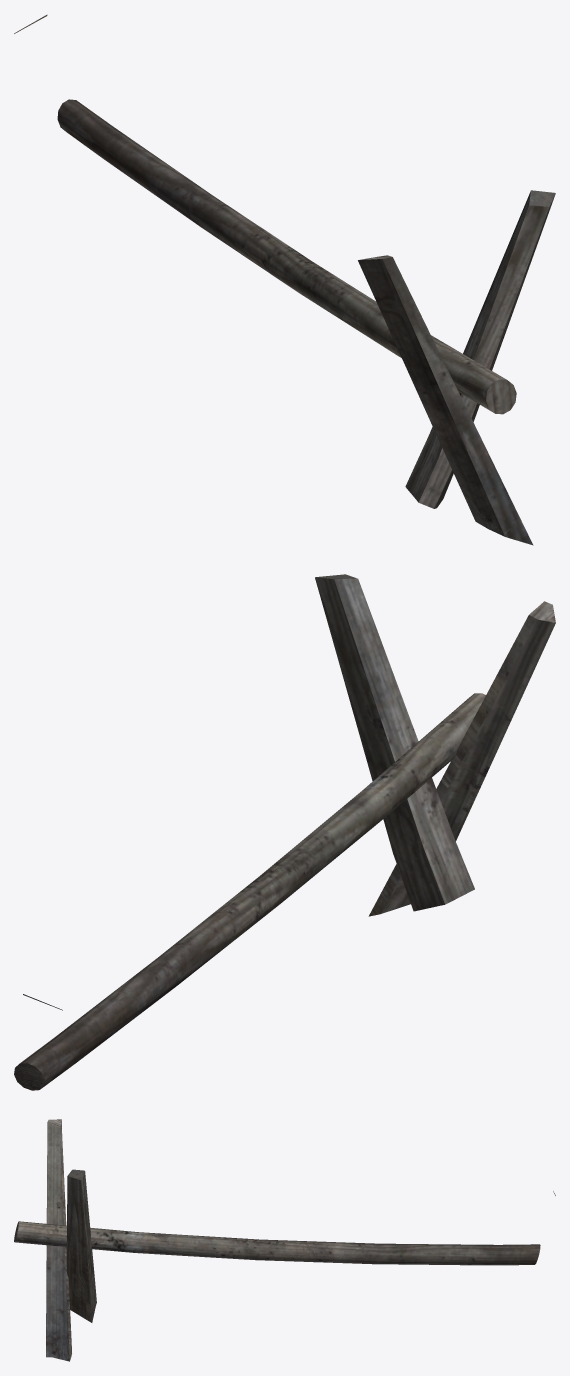
File: Fence_16a_3.fbx
The picture shows the model from 3 angles, top to bottom: view 1: azimuth 30°, elevation 25°; view 2: azimuth 150°, elevation 25°; view 3: azimuth 270°, elevation 25°; orthographic projection. The views are drawn at different scales.
Parts seen in each view (by area): view 1: SM_Fence_16a_DM_1.003; view 2: SM_Fence_16a_DM_1.003; view 3: SM_Fence_16a_DM_1.003.
Boxes of the visible parts, box(x1,y1,x2,y2) form: SM_Fence_16a_DM_1.003: box(14, 14, 555, 545); SM_Fence_16a_DM_1.003: box(14, 574, 555, 1090); SM_Fence_16a_DM_1.003: box(14, 1119, 555, 1361).
Size of the model in its own units: 2867 by 4176 by 10415.
